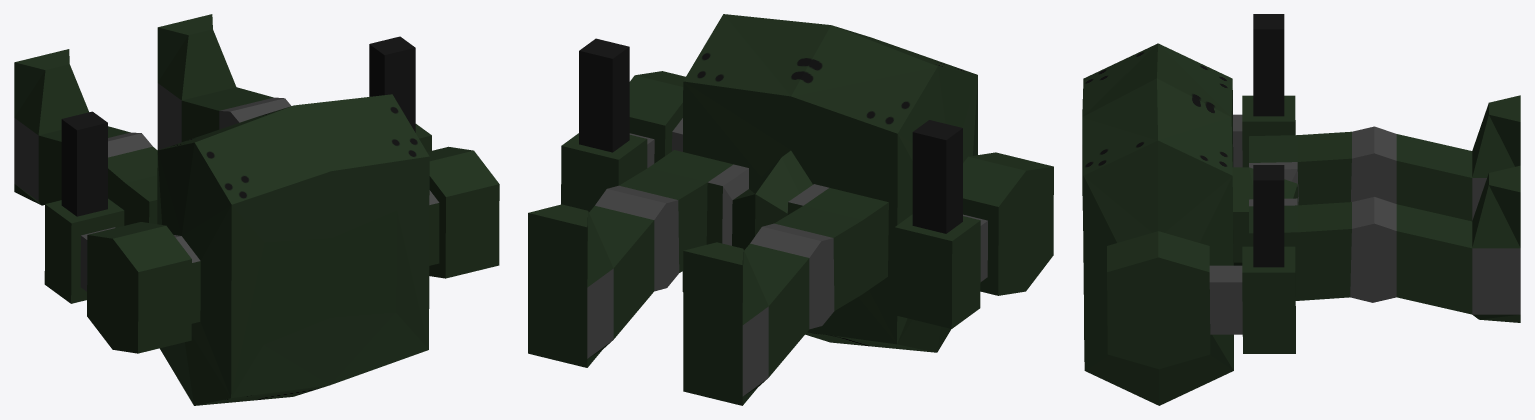
File: enemy4.obj
3 renders of one model, left to right at view 1: azimuth 30°, elevation 25°; view 2: azimuth 150°, elevation 25°; view 3: azimuth 270°, elevation 25°, orthographic. The views are drawn at different scales.
Parts seen in each view (by area): view 1: Cube; view 2: Cube; view 3: Cube.
Boxes of the visible parts, x1=… form: Cube: x1=14, y1=14, x2=499, y2=405; Cube: x1=528, y1=14, x2=1053, y2=405; Cube: x1=1082, y1=14, x2=1520, y2=405.
Bounding box in the file's own units: 8.14 × 6.3 × 8.51.
1 material, 1 textured.
